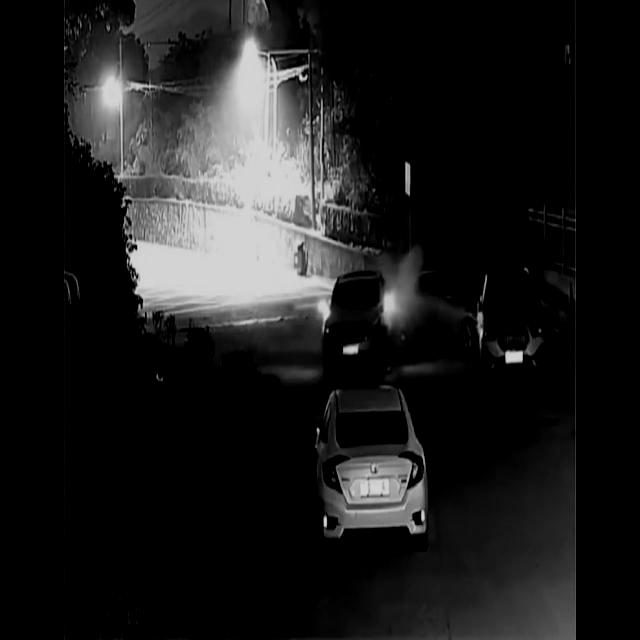accident: (320, 264, 550, 384)
